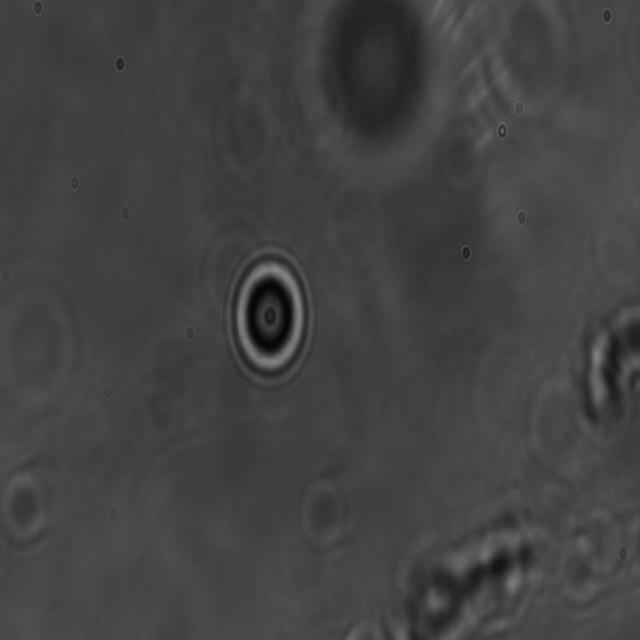LCELL: (220, 239, 317, 395)
